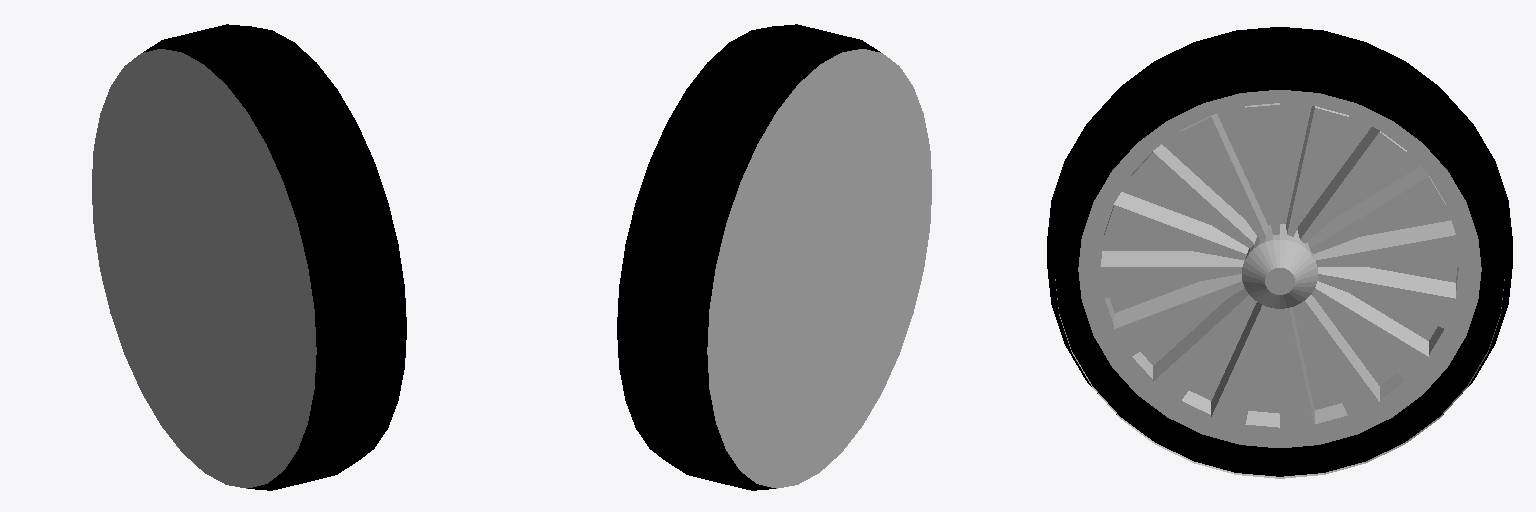
Rendered from Wheel.obj.
3 views of the same model, side by side, from view 1: azimuth 30°, elevation 25°; view 2: azimuth 150°, elevation 25°; view 3: azimuth 270°, elevation 25° (orthographic).
Parts seen in each view (by area): view 1: Cube; view 2: Cube; view 3: Cube.
Part boxes in pixels (left/top/right/bottom): Cube: left=92, top=24, right=406, bottom=490; Cube: left=617, top=24, right=931, bottom=490; Cube: left=1047, top=27, right=1512, bottom=478.
Size of the model in its own units: 0.1582 by 0.6156 by 0.6156.